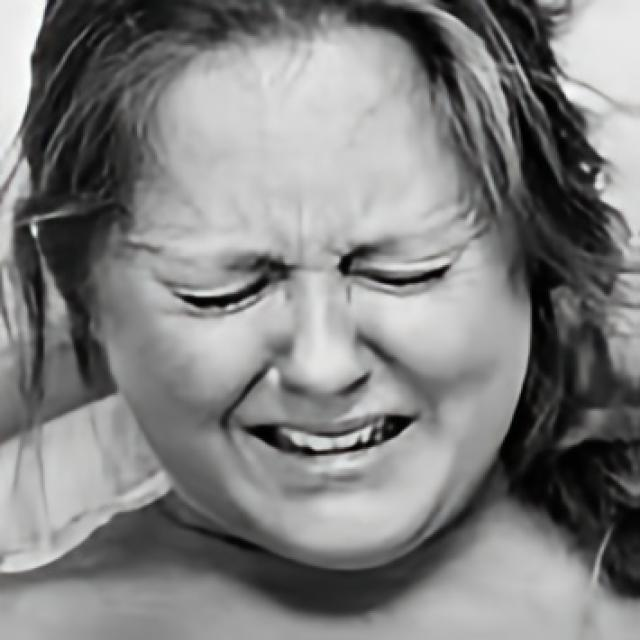sad: (98, 51, 528, 564)
